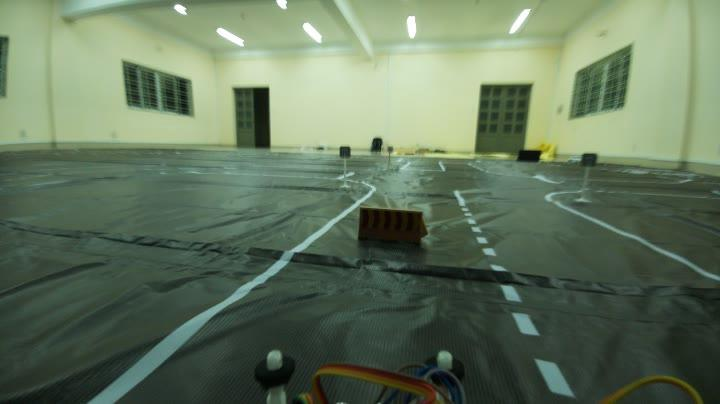roadblock: (353, 200, 430, 258)
